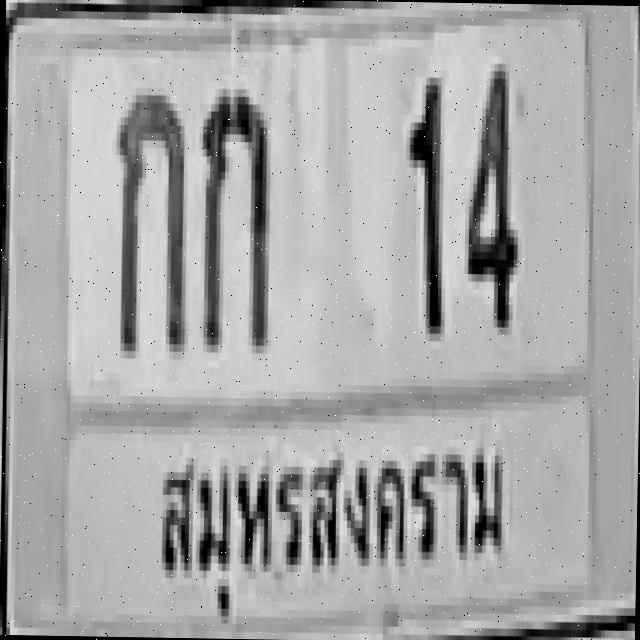1: (403, 73, 441, 330)
10GorGai: (109, 86, 184, 352), (195, 80, 268, 346)
4: (463, 59, 517, 323)
SamutSongkhram: (148, 420, 515, 622)
